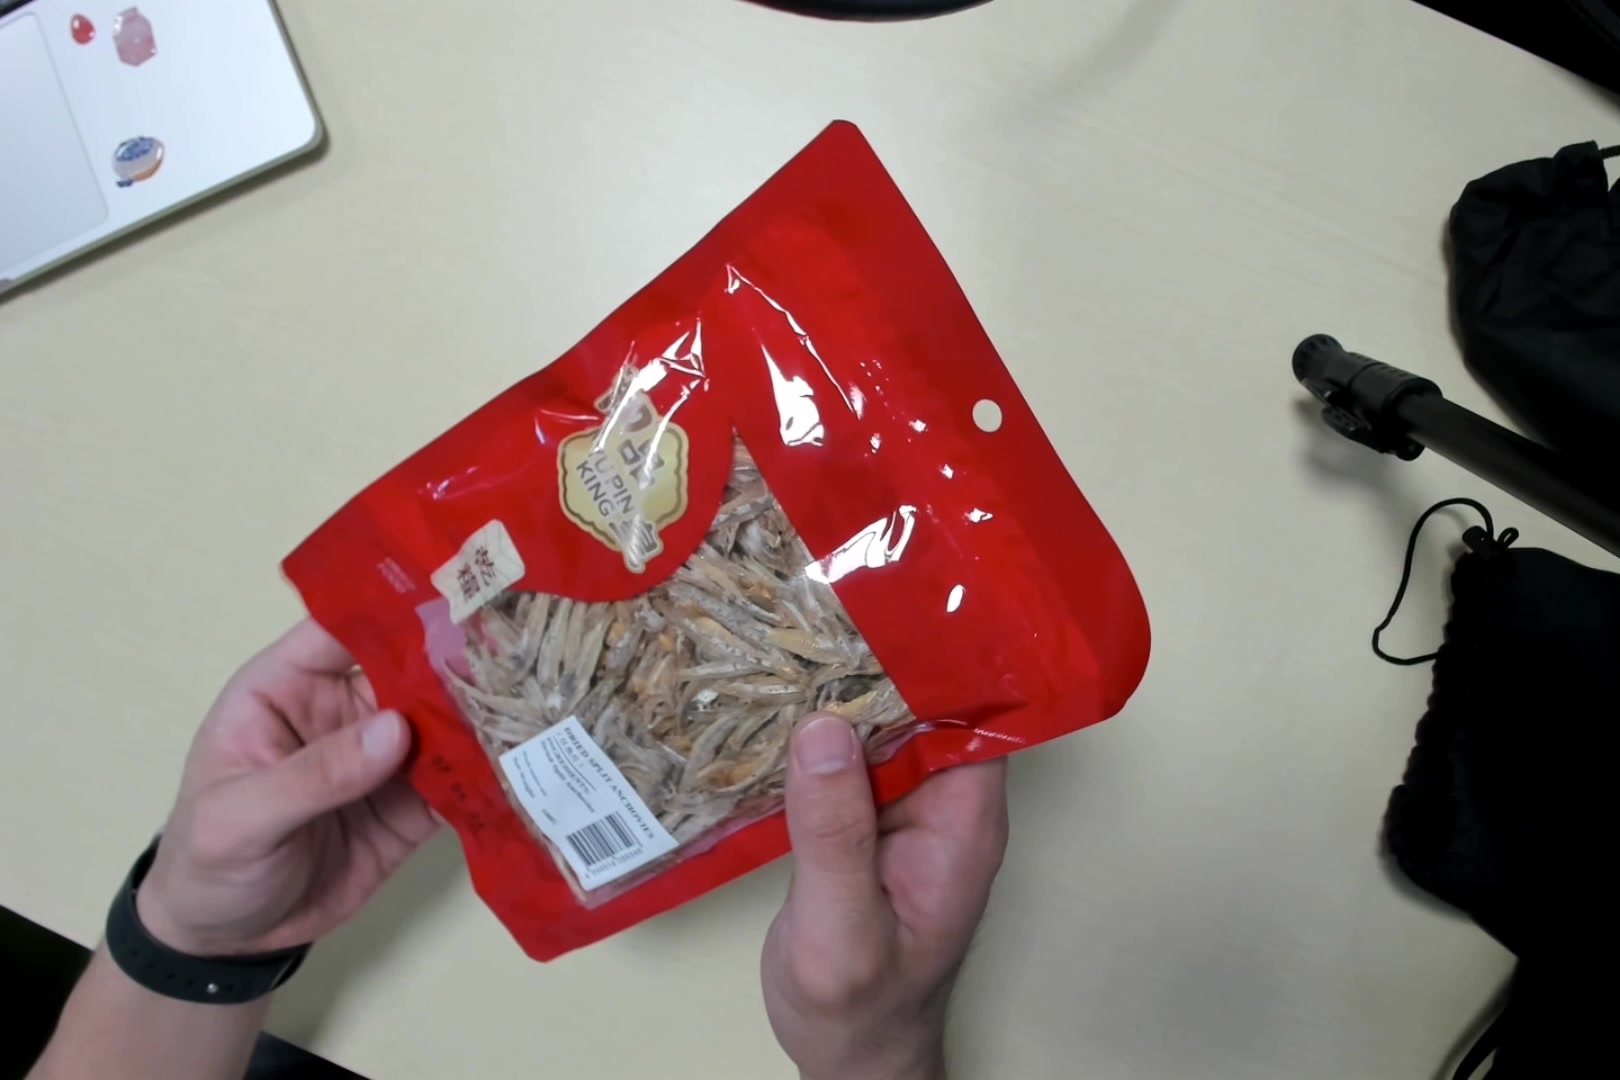DriedMeatSeafood_100-199g_NonHalal_NonHealthy: (352, 121, 1102, 946)
